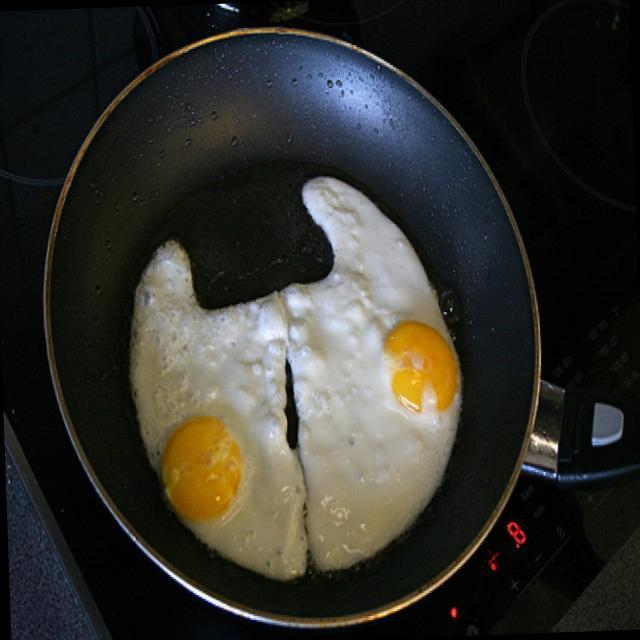Egg: (290, 174, 469, 565), (123, 226, 298, 586)
